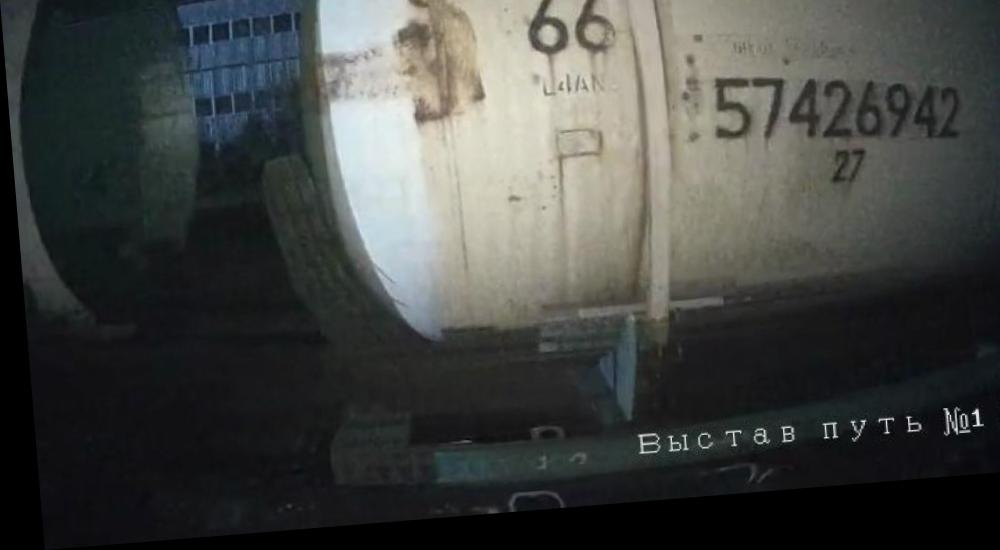Wagon-number: (704, 69, 961, 176)
